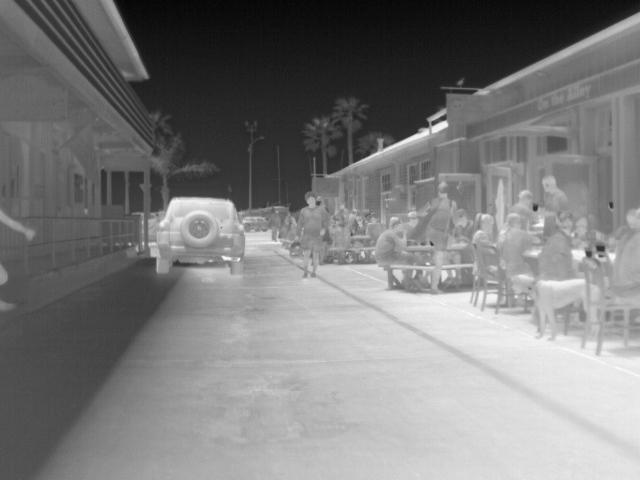car: (153, 194, 244, 273), (244, 214, 270, 232)
dog: (508, 276, 599, 340)
person: (414, 180, 457, 292), (291, 190, 329, 276), (534, 211, 578, 281), (608, 210, 639, 300), (497, 212, 535, 276), (377, 216, 414, 264), (470, 211, 498, 271), (536, 177, 572, 215), (507, 188, 538, 226), (573, 216, 597, 246), (366, 213, 384, 247), (331, 220, 351, 248), (268, 206, 284, 240), (454, 208, 469, 243)
